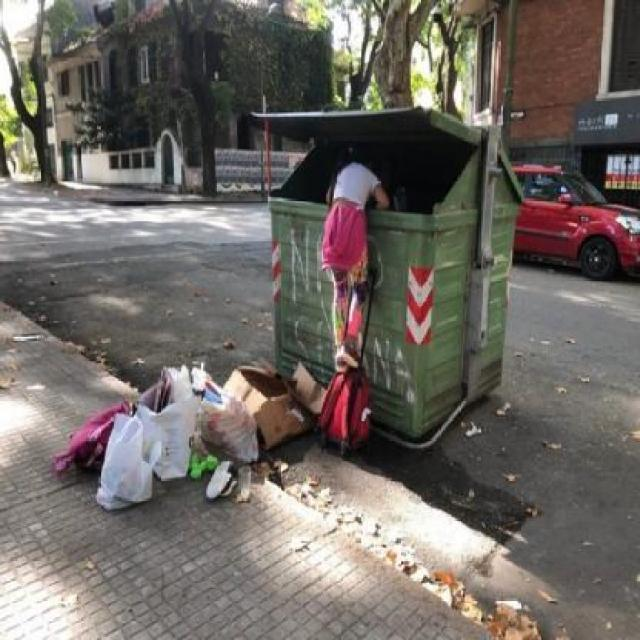garbage: (49, 351, 358, 505), (414, 559, 591, 639), (300, 485, 434, 574), (0, 300, 18, 401)
